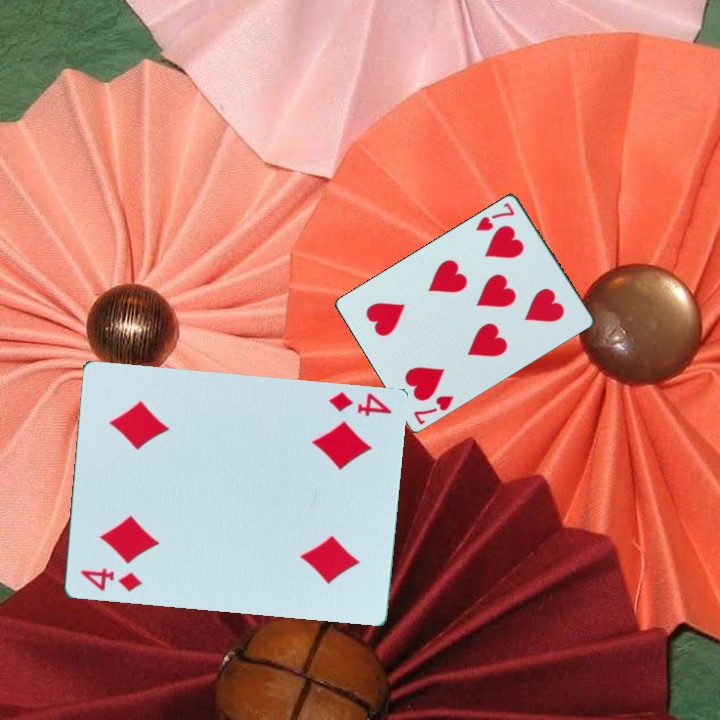4d: (325, 388, 394, 420), (77, 565, 145, 595)
7h: (410, 391, 457, 427), (472, 198, 518, 234)
